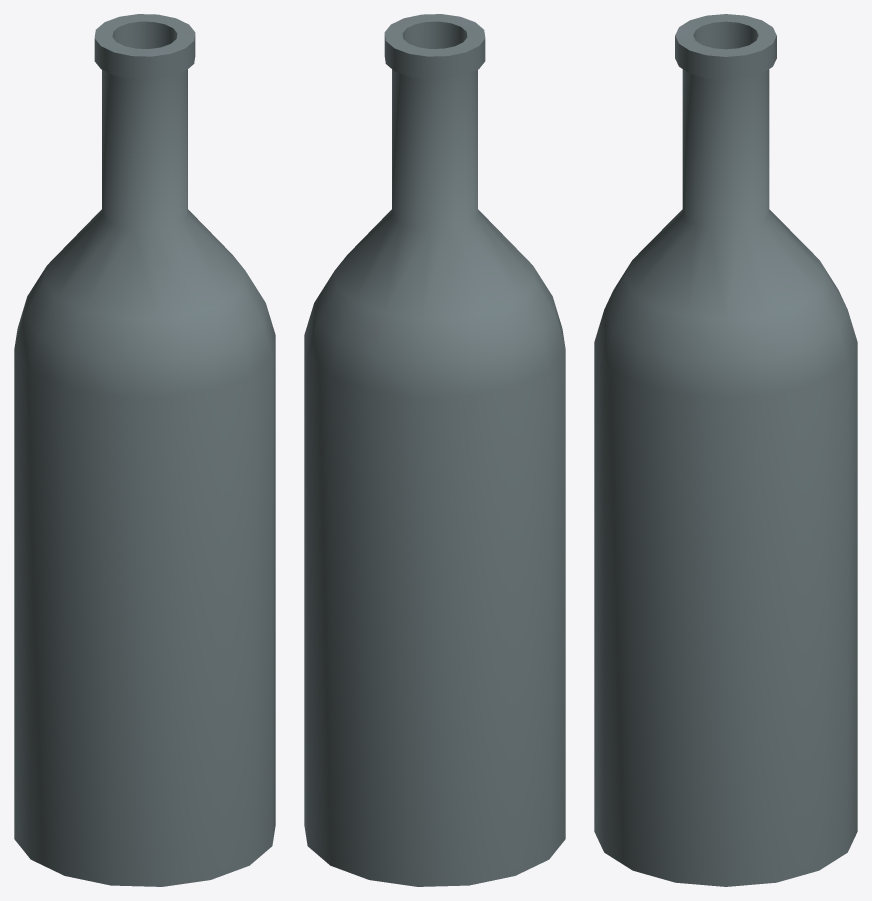
The model's file is SM_Bottle_1.FBX.
3 views of the same model, side by side, from view 1: azimuth 30°, elevation 25°; view 2: azimuth 150°, elevation 25°; view 3: azimuth 270°, elevation 25° (orthographic).
Parts seen in each view (by area): view 1: SM_Bottle_1; view 2: SM_Bottle_1; view 3: SM_Bottle_1.
Boxes of the visible parts, left/top/right/bottom form: SM_Bottle_1: left=14, top=14, right=275, bottom=886; SM_Bottle_1: left=304, top=14, right=565, bottom=886; SM_Bottle_1: left=594, top=14, right=857, bottom=886.
Bounding box in the file's own units: 9.01 × 30 × 9.01.
